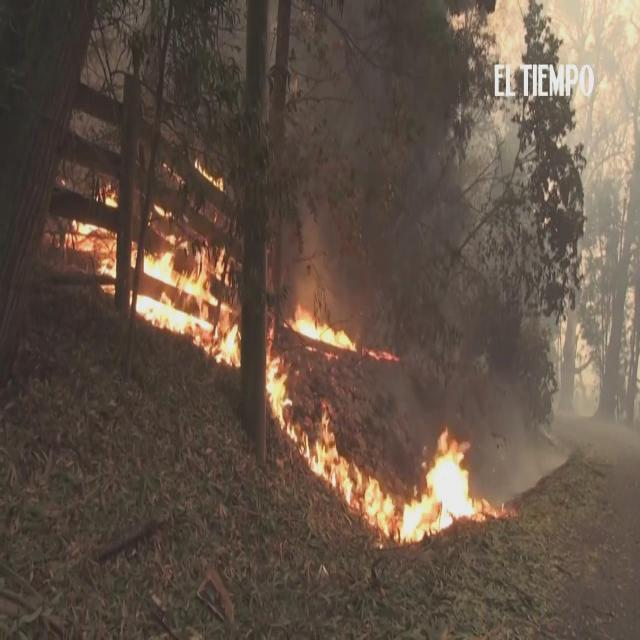Fire: (302, 399, 488, 545), (133, 225, 241, 362), (266, 319, 297, 439), (68, 220, 118, 294), (289, 305, 356, 353), (193, 154, 225, 193), (364, 343, 400, 365), (102, 180, 120, 208)
